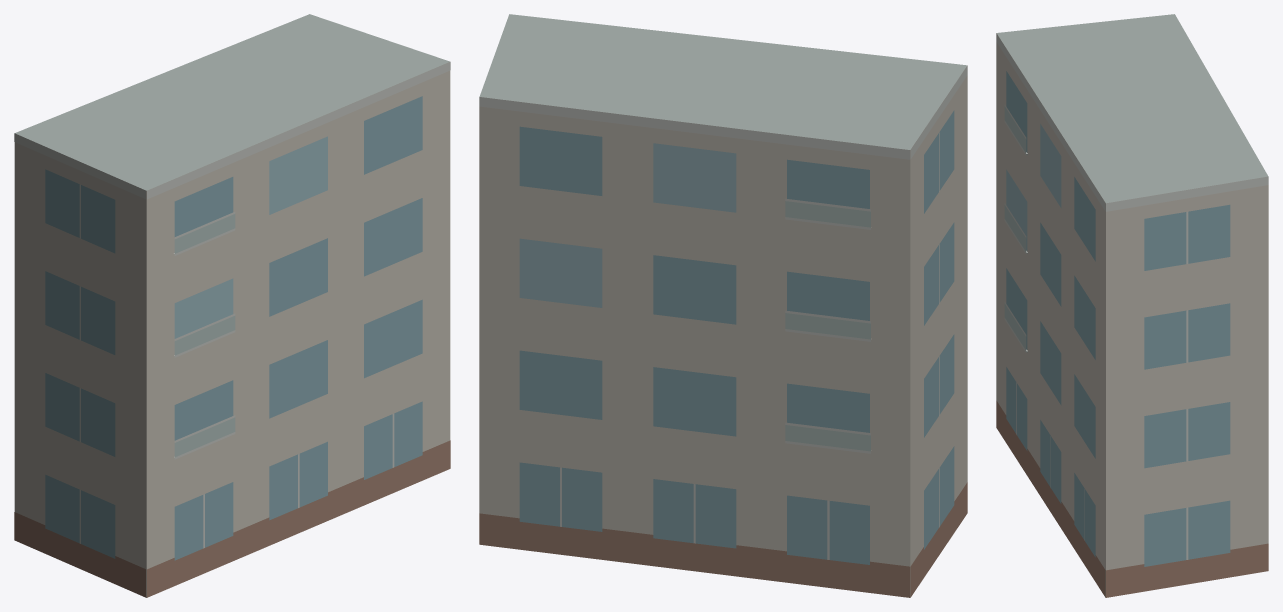
Rendered from survey-upis-32493675.glb.
The picture shows the model from 3 angles, left to right: view 1: azimuth 30°, elevation 25°; view 2: azimuth 150°, elevation 25°; view 3: azimuth 270°, elevation 25°; orthographic projection. The views are drawn at different scales.
Parts seen in each view (by area): view 1: survey-upis-32493675.tmp; view 2: survey-upis-32493675.tmp; view 3: survey-upis-32493675.tmp.
Part boxes in pixels (x1,y1,x2,y2): survey-upis-32493675.tmp: (14, 14, 450, 597); survey-upis-32493675.tmp: (479, 14, 967, 597); survey-upis-32493675.tmp: (996, 14, 1268, 597).
Bounding box in the file's own units: 11.58 × 11.24 × 7.04.
